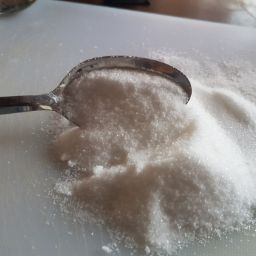Sugar: (13, 38, 256, 256), (119, 42, 256, 256), (23, 145, 209, 256), (46, 65, 199, 160)
